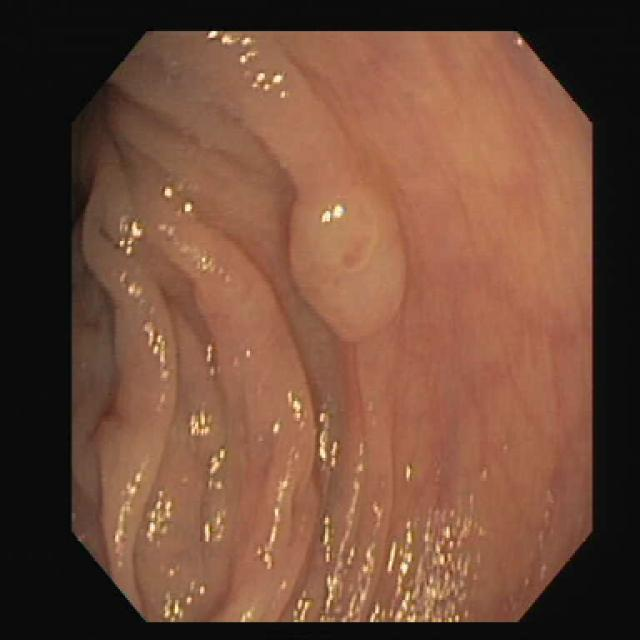tumor: (292, 182, 403, 338)
